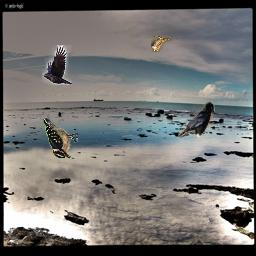Crow: (178, 101, 215, 138), (42, 45, 72, 85)
Sparrow: (151, 36, 172, 52)
Woodpecker: (43, 119, 78, 159)
